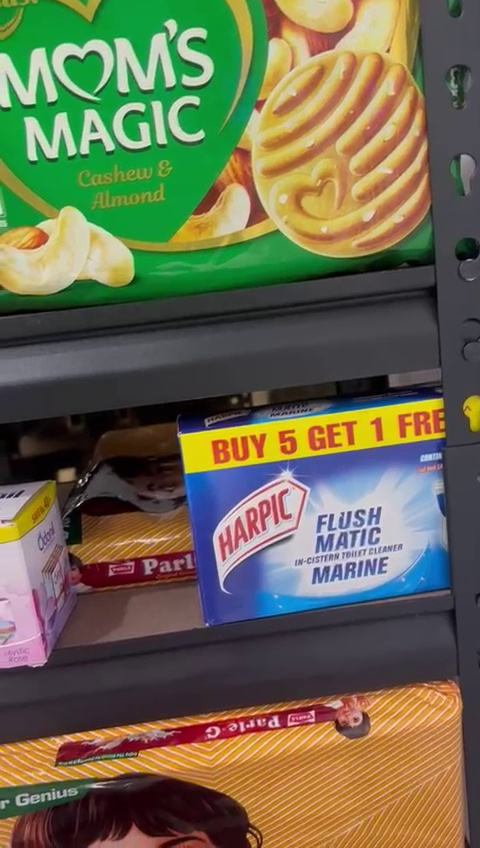Harpic: (188, 418, 451, 601)
